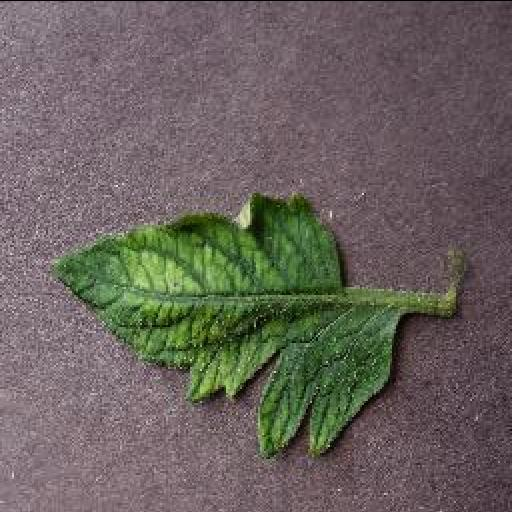disease_tomato: (42, 190, 404, 462)
